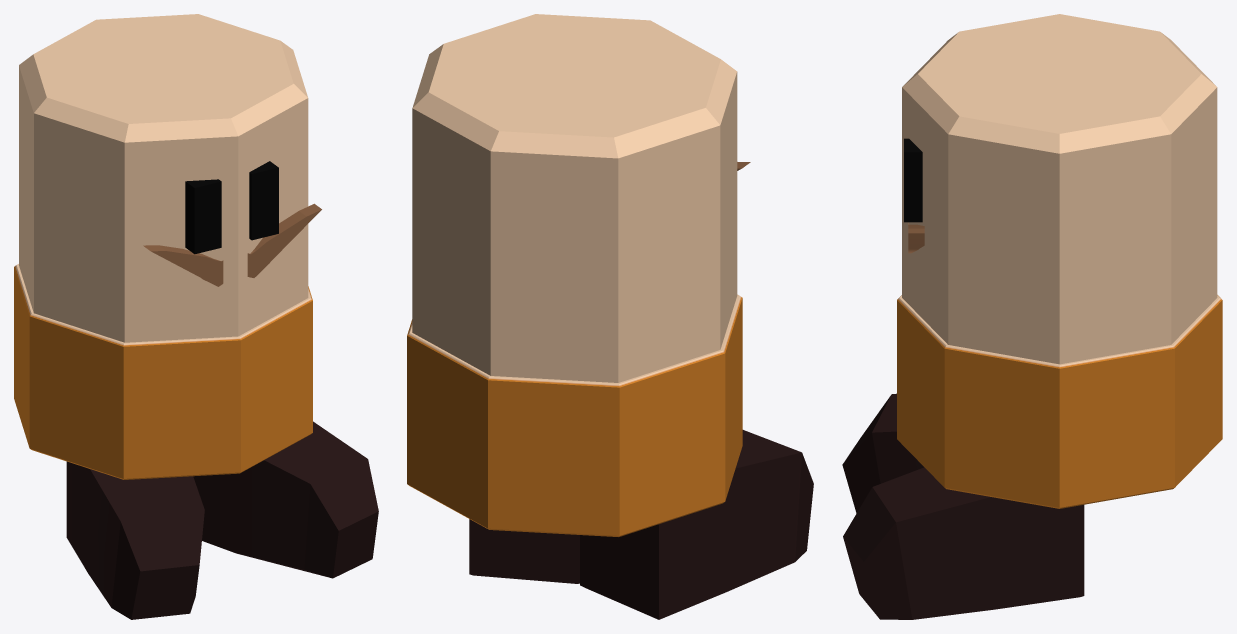
The model's file is NPC-3.fbx.
3 renders of one model, left to right at view 1: azimuth 30°, elevation 25°; view 2: azimuth 150°, elevation 25°; view 3: azimuth 270°, elevation 25°, orthographic. The views are drawn at different scales.
Parts seen in each view (by area): view 1: pCylinder3, pCube18, pCube19, pCube23, pCube22, pCube20, pCube21; view 2: pCylinder3, pCube19, pCube18; view 3: pCylinder3, pCube18, pCube19, pCube22.
Boxes of the visible parts, bbox=[...] form: pCylinder3: bbox=[14, 14, 312, 479]; pCube18: bbox=[193, 421, 378, 578]; pCube19: bbox=[66, 461, 204, 619]; pCube23: bbox=[185, 179, 221, 254]; pCube22: bbox=[249, 161, 278, 240]; pCube20: bbox=[247, 203, 321, 277]; pCube21: bbox=[143, 245, 223, 286]; pCylinder3: bbox=[407, 14, 742, 536]; pCube19: bbox=[580, 430, 813, 619]; pCube18: bbox=[469, 519, 579, 583]; pCylinder3: bbox=[897, 14, 1222, 508]; pCube18: bbox=[843, 467, 1084, 619]; pCube19: bbox=[842, 393, 923, 513]; pCube22: bbox=[904, 138, 922, 222].
Bounding box in the file's own units: 239 × 390 × 279.
Materials: 4 (1 with a texture image).
